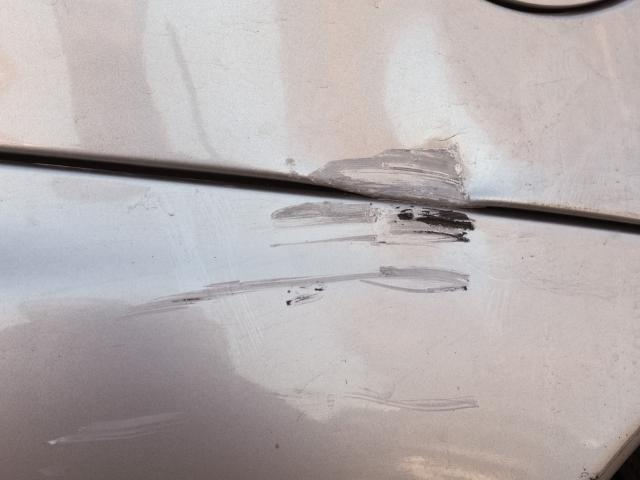Bumper: (0, 87, 640, 480)
